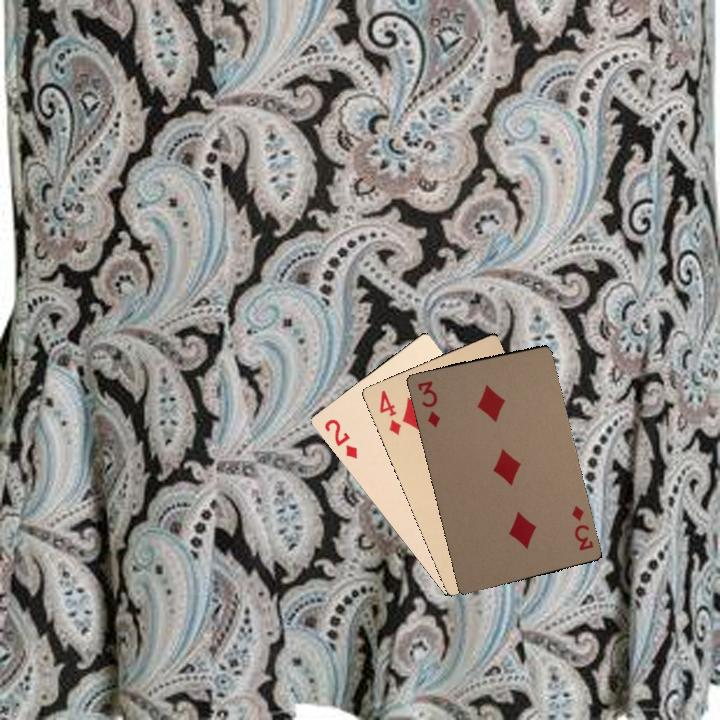2d: (320, 415, 360, 461)
3d: (413, 377, 444, 430), (568, 501, 596, 553)
4d: (375, 386, 404, 438)
